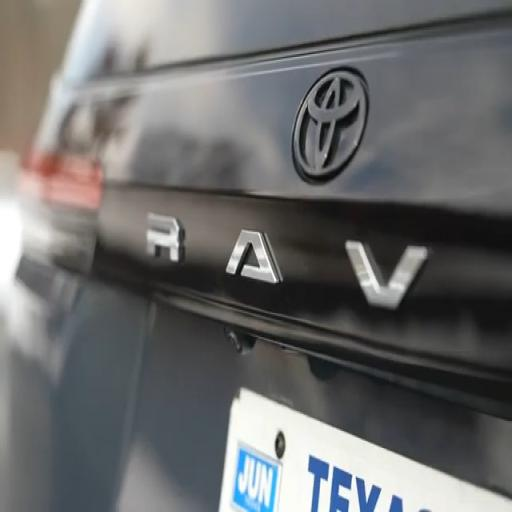emblem: (292, 70, 367, 182), (226, 229, 282, 284), (147, 214, 184, 263)
